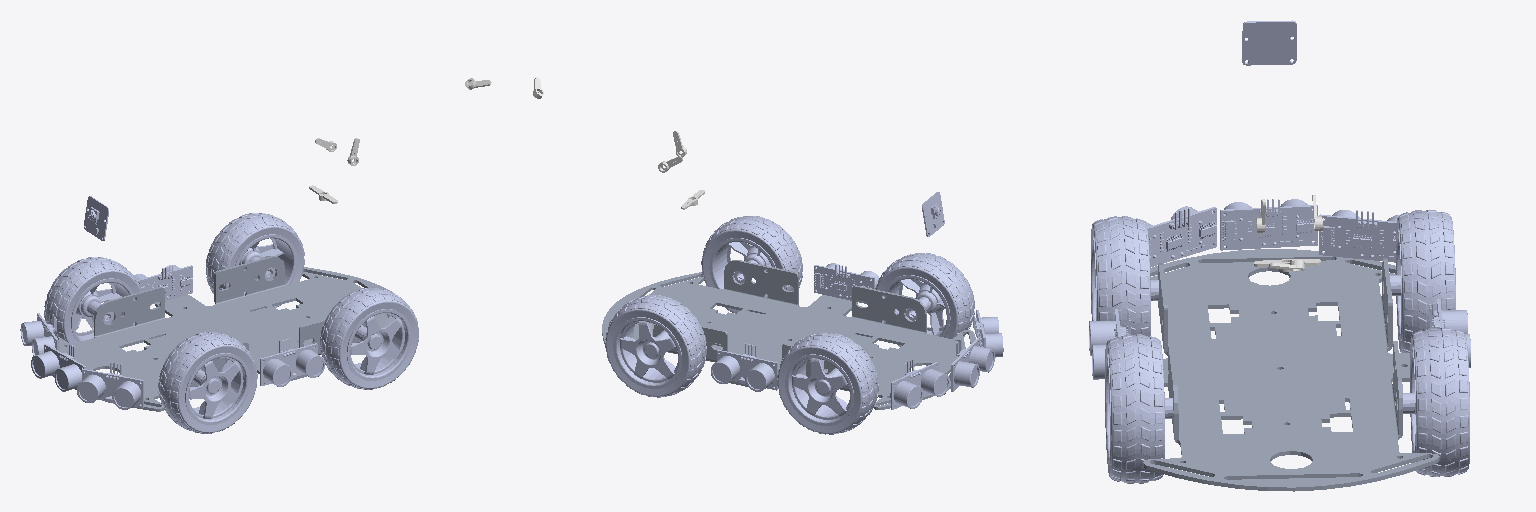
The robot description file, URDF, robot "assembly_of_robot":
<?xml version="1.0" encoding="utf-8"?>
<!-- This URDF was automatically created by SolidWorks to URDF Exporter! Originally created by Stephen Brawner (brawner@gmail.com) 
     Commit Version: 1.6.0-4-g7f85cfe  Build Version: 1.6.7995.38578
     For more information, please see http://wiki.ros.org/sw_urdf_exporter -->
<robot
  name="assembly_of_robot">
  <link
    name="base_link">
    <inertial>
      <origin
        xyz="-0.00370560542088127 -0.00123891547063168 -0.0326447076903412"
        rpy="0 0 0" />
      <mass
        value="0.0585904996282878" />
      <inertia
        ixx="8.00882758728889E-05"
        ixy="-9.08460677919354E-06"
        ixz="-4.47145682288692E-13"
        iyy="0.000258854069540987"
        iyz="-1.24068479421353E-12"
        izz="0.000335783016348923" />
    </inertial>
    <visual>
      <origin
        xyz="0 0 0"
        rpy="0 0 0" />
      <geometry>
        <mesh
          filename="package://assembly_of_robot/meshes/base_link.STL" />
      </geometry>
      <material
        name="">
        <color
          rgba="0.666666666666667 0.698039215686274 0.768627450980392 1" />
      </material>
    </visual>
    <collision>
      <origin
        xyz="0 0 0"
        rpy="0 0 0" />
      <geometry>
        <mesh
          filename="package://assembly_of_robot/meshes/base_link.STL" />
      </geometry>
    </collision>
  </link>
  <link
    name="wheel_fl_link">
    <inertial>
      <origin
        xyz="-0.000105669853970536 -0.00174681357516555 0.0101270123724146"
        rpy="0 0 0" />
      <mass
        value="0.166945648341111" />
      <inertia
        ixx="6.72961952966562E-05"
        ixy="8.75460776044797E-10"
        ixz="3.1755781149978E-12"
        iyy="6.72928970285414E-05"
        iyz="1.03915652666965E-12"
        izz="0.000113206411676655" />
    </inertial>
    <visual>
      <origin
        xyz="0 0 0"
        rpy="0 0 0" />
      <geometry>
        <mesh
          filename="package://assembly_of_robot/meshes/wheel_fl_link.STL" />
      </geometry>
      <material
        name="">
        <color
          rgba="0.792156862745098 0.819607843137255 0.933333333333333 1" />
      </material>
    </visual>
    <collision>
      <origin
        xyz="0 0 0"
        rpy="0 0 0" />
      <geometry>
        <mesh
          filename="package://assembly_of_robot/meshes/wheel_fl_link.STL" />
      </geometry>
    </collision>
  </link>
  <joint
    name="wheel_fl_joint"
    type="fixed">
    <origin
      xyz="-0.064799 -0.06515 -0.020884"
      rpy="1.5708 -0.060409 0.050643" />
    <parent
      link="base_link" />
    <child
      link="wheel_fl_link" />
    <axis
      xyz="0 0 0" />
  </joint>
  <link
    name="wheel_fr_link">
    <inertial>
      <origin
        xyz="-0.000105670029036942 0.00174681288738787 0.010127012388173"
        rpy="0 0 0" />
      <mass
        value="0.166945648268322" />
      <inertia
        ixx="6.72959886592619E-05"
        ixy="-1.18547893310603E-09"
        ixz="3.06215474412157E-12"
        iyy="6.72931038073597E-05"
        iyz="-9.2618000400134E-13"
        izz="0.000113206411590483" />
    </inertial>
    <visual>
      <origin
        xyz="0 0 0"
        rpy="0 0 0" />
      <geometry>
        <mesh
          filename="package://assembly_of_robot/meshes/wheel_fr_link.STL" />
      </geometry>
      <material
        name="">
        <color
          rgba="0.792156862745098 0.819607843137255 0.933333333333333 1" />
      </material>
    </visual>
    <collision>
      <origin
        xyz="0 0 0"
        rpy="0 0 0" />
      <geometry>
        <mesh
          filename="package://assembly_of_robot/meshes/wheel_fr_link.STL" />
      </geometry>
    </collision>
  </link>
  <joint
    name="wheel_fr_joint"
    type="fixed">
    <origin
      xyz="-0.070948 0.056167 -0.020884"
      rpy="-1.5708 -0.060409 0.050643" />
    <parent
      link="base_link" />
    <child
      link="wheel_fr_link" />
    <axis
      xyz="0 0 0" />
  </joint>
  <link
    name="wheel_bl_link">
    <inertial>
      <origin
        xyz="-0.000105669853960988 -0.0017468135751744 0.0101270123724197"
        rpy="0 0 0" />
      <mass
        value="0.166945648341348" />
      <inertia
        ixx="6.72961952967705E-05"
        ixy="8.75460791537877E-10"
        ixz="3.17557931693756E-12"
        iyy="6.72928970285945E-05"
        iyz="1.03916985727418E-12"
        izz="0.000113206411676816" />
    </inertial>
    <visual>
      <origin
        xyz="0 0 0"
        rpy="0 0 0" />
      <geometry>
        <mesh
          filename="package://assembly_of_robot/meshes/wheel_bl_link.STL" />
      </geometry>
      <material
        name="">
        <color
          rgba="0.792156862745098 0.819607843137255 0.933333333333333 1" />
      </material>
    </visual>
    <collision>
      <origin
        xyz="0 0 0"
        rpy="0 0 0" />
      <geometry>
        <mesh
          filename="package://assembly_of_robot/meshes/wheel_bl_link.STL" />
      </geometry>
    </collision>
  </link>
  <joint
    name="wheel_bl_joint"
    type="fixed">
    <origin
      xyz="0.063537 -0.058645 -0.020884"
      rpy="1.5708 -0.060409 0.050643" />
    <parent
      link="base_link" />
    <child
      link="wheel_bl_link" />
    <axis
      xyz="0 0 0" />
  </joint>
  <link
    name="wheel_br_link">
    <inertial>
      <origin
        xyz="-0.000105670029167615 0.00174681288747511 0.010127012388229"
        rpy="0 0 0" />
      <mass
        value="0.166945648269942" />
      <inertia
        ixx="6.72959886593697E-05"
        ixy="-1.18547871982134E-09"
        ixz="3.06227103560424E-12"
        iyy="6.72931038077175E-05"
        iyz="-9.26253933036976E-13"
        izz="0.000113206411590851" />
    </inertial>
    <visual>
      <origin
        xyz="0 0 0"
        rpy="0 0 0" />
      <geometry>
        <mesh
          filename="package://assembly_of_robot/meshes/wheel_br_link.STL" />
      </geometry>
      <material
        name="">
        <color
          rgba="0.792156862745098 0.819607843137255 0.933333333333333 1" />
      </material>
    </visual>
    <collision>
      <origin
        xyz="0 0 0"
        rpy="0 0 0" />
      <geometry>
        <mesh
          filename="package://assembly_of_robot/meshes/wheel_br_link.STL" />
      </geometry>
    </collision>
  </link>
  <joint
    name="wheel_br_joint"
    type="fixed">
    <origin
      xyz="0.057387 0.062672 -0.020884"
      rpy="-1.5708 -0.060409 0.050643" />
    <parent
      link="base_link" />
    <child
      link="wheel_br_link" />
    <axis
      xyz="0 0 0" />
  </joint>
  <link
    name="arm_link_1">
    <inertial>
      <origin
        xyz="-0.124122626261111 0.00674578860620575 -0.0308255459423702"
        rpy="0 0 0" />
      <mass
        value="8.1278852649819E-05" />
      <inertia
        ixx="4.93089984265765E-09"
        ixy="-3.70030615453607E-10"
        ixz="-6.73001887244955E-11"
        iyy="2.95256868033253E-10"
        iyz="5.33829838018978E-12"
        izz="4.99315942171251E-09" />
    </inertial>
    <visual>
      <origin
        xyz="0 0 0"
        rpy="0 0 0" />
      <geometry>
        <mesh
          filename="package://assembly_of_robot/meshes/arm_link_1.STL" />
      </geometry>
      <material
        name="">
        <color
          rgba="0.917647058823529 0.917647058823529 0.917647058823529 1" />
      </material>
    </visual>
    <collision>
      <origin
        xyz="0 0 0"
        rpy="0 0 0" />
      <geometry>
        <mesh
          filename="package://assembly_of_robot/meshes/arm_link_1.STL" />
      </geometry>
    </collision>
  </link>
  <joint
    name="arm_joint_1"
    type="fixed">
    <origin
      xyz="0.18587 0.0065057 0.10591"
      rpy="-3.0796 -0.66341 -0.035278" />
    <parent
      link="base_link" />
    <child
      link="arm_link_1" />
    <axis
      xyz="0 0 0" />
  </joint>
  <link
    name="arm_link_2">
    <inertial>
      <origin
        xyz="0.00648574509338751 -0.0035676648492927 0.0146673556846963"
        rpy="0 0 0" />
      <mass
        value="5.57519132003526E-05" />
      <inertia
        ixx="1.44807551587359E-09"
        ixy="4.27495052985691E-10"
        ixz="-4.51952909781509E-11"
        iyy="3.63616413413215E-10"
        iyz="1.30323710094228E-10"
        izz="1.70581897775778E-09" />
    </inertial>
    <visual>
      <origin
        xyz="0 0 0"
        rpy="0 0 0" />
      <geometry>
        <mesh
          filename="package://assembly_of_robot/meshes/arm_link_2.STL" />
      </geometry>
      <material
        name="">
        <color
          rgba="0.917647058823529 0.917647058823529 0.917647058823529 1" />
      </material>
    </visual>
    <collision>
      <origin
        xyz="0 0 0"
        rpy="0 0 0" />
      <geometry>
        <mesh
          filename="package://assembly_of_robot/meshes/arm_link_2.STL" />
      </geometry>
    </collision>
  </link>
  <joint
    name="arm_joint_2"
    type="fixed">
    <origin
      xyz="-0.0977341582856277 0.032098573245808 -0.0458965624183291"
      rpy="1.57079632679489 -0.605405747453626 -0.0791549736736961" />
    <parent
      link="arm_link_1" />
    <child
      link="arm_link_2" />
    <axis
      xyz="0 0 0" />
  </joint>
  <link
    name="arm_link_3">
    <inertial>
      <origin
        xyz="0.0018500879530019 0.00214391271618598 0.0146673556846982"
        rpy="0 0 0" />
      <mass
        value="5.57519132003528E-05" />
      <inertia
        ixx="7.09211449765935E-10"
        ixy="6.6189105909767E-10"
        ixz="1.10556176440161E-10"
        iyy="1.10248047952088E-09"
        iyz="-8.24876693224881E-11"
        izz="1.70581897775779E-09" />
    </inertial>
    <visual>
      <origin
        xyz="0 0 0"
        rpy="0 0 0" />
      <geometry>
        <mesh
          filename="package://assembly_of_robot/meshes/arm_link_3.STL" />
      </geometry>
      <material
        name="">
        <color
          rgba="0.917647058823529 0.917647058823529 0.917647058823529 1" />
      </material>
    </visual>
    <collision>
      <origin
        xyz="0 0 0"
        rpy="0 0 0" />
      <geometry>
        <mesh
          filename="package://assembly_of_robot/meshes/arm_link_3.STL" />
      </geometry>
    </collision>
  </link>
  <joint
    name="arm_joint_3"
    type="fixed">
    <origin
      xyz="0 0 0.05472"
      rpy="-3.14159265358979 0 0" />
    <parent
      link="arm_link_2" />
    <child
      link="arm_link_3" />
    <axis
      xyz="0 0 0" />
  </joint>
  <link
    name="gripper_link">
    <inertial>
      <origin
        xyz="0.113318137458526 0.000812721670038208 0.0681968479941391"
        rpy="0 0 0" />
      <mass
        value="5.57519132003527E-05" />
      <inertia
        ixx="1.25390317776698E-09"
        ixy="6.01820102436692E-10"
        ixz="-2.41092409319661E-10"
        iyy="6.75526733669433E-10"
        iyz="2.75026382373374E-10"
        izz="1.58808099560817E-09" />
    </inertial>
    <visual>
      <origin
        xyz="0 0 0"
        rpy="0 0 0" />
      <geometry>
        <mesh
          filename="package://assembly_of_robot/meshes/gripper_link.STL" />
      </geometry>
      <material
        name="">
        <color
          rgba="0.917647058823529 0.917647058823529 0.917647058823529 1" />
      </material>
    </visual>
    <collision>
      <origin
        xyz="0 0 0"
        rpy="0 0 0" />
      <geometry>
        <mesh
          filename="package://assembly_of_robot/meshes/gripper_link.STL" />
      </geometry>
    </collision>
  </link>
  <joint
    name="gripper_joint"
    type="fixed">
    <origin
      xyz="-0.00711645531853933 -0.0406041889920145 0.0273600000000001"
      rpy="-1.5707963267949 -0.0652497686603052 -0.0604604536911187" />
    <parent
      link="arm_link_3" />
    <child
      link="gripper_link" />
    <axis
      xyz="0 0 0" />
  </joint>
  <link
    name="camera_link">
    <inertial>
      <origin
        xyz="0 0 0"
        rpy="0 0 0" />
      <mass
        value="0.01" />
      <inertia
        ixx="1e-06"
        ixy="0"
        ixz="0"
        iyy="1e-06"
        iyz="0"
        izz="1e-06" />
    </inertial>
    <visual>
      <origin
        xyz="0 0 0"
        rpy="0 0 0" />
      <geometry>
        <mesh
          filename="package://assembly_of_robot/meshes/camera_link.STL" />
      </geometry>
      <material
        name="">
        <color
          rgba="0.792156862745098 0.819607843137255 0.933333333333333 1" />
      </material>
    </visual>
    <collision>
      <origin
        xyz="0 0 0"
        rpy="0 0 0" />
      <geometry>
        <mesh
          filename="package://assembly_of_robot/meshes/camera_link.STL" />
      </geometry>
    </collision>
  </link>
  <joint
    name="camera_joint"
    type="fixed">
    <origin
      xyz="-0.10746 -0.021291 0.093296"
      rpy="0.89986 -1.2952 -0.86787" />
    <parent
      link="base_link" />
    <child
      link="camera_link" />
    <axis
      xyz="0 0 0" />
  </joint>
  <link
    name="ultrasonic_front_left_link">
    <inertial>
      <origin
        xyz="-0.00410496565863083 0.00342186137231378 0.000787748429459056"
        rpy="0 0 0" />
      <mass
        value="0.00627540556306314" />
      <inertia
        ixx="1.8091310188245E-07"
        ixy="2.14052718518324E-08"
        ixz="5.26016256356208E-10"
        iyy="3.88111656388318E-07"
        iyz="1.9027739006771E-09"
        izz="4.67479665984999E-07" />
    </inertial>
    <visual>
      <origin
        xyz="0 0 0"
        rpy="0 0 0" />
      <geometry>
        <mesh
          filename="package://assembly_of_robot/meshes/ultrasonic_front_left_link.STL" />
      </geometry>
      <material
        name="">
        <color
          rgba="0.792156862745098 0.819607843137255 0.933333333333333 1" />
      </material>
    </visual>
    <collision>
      <origin
        xyz="0 0 0"
        rpy="0 0 0" />
      <geometry>
        <mesh
          filename="package://assembly_of_robot/meshes/ultrasonic_front_left_link.STL" />
      </geometry>
    </collision>
  </link>
  <joint
    name="ultrasonic_front_left_joint"
    type="fixed">
    <origin
      xyz="-0.12324 -0.05497 -0.026486"
      rpy="1.5708 -0.10222 -0.94112" />
    <parent
      link="base_link" />
    <child
      link="ultrasonic_front_left_link" />
    <axis
      xyz="0 0 0" />
  </joint>
  <link
    name="ultrasonic_front_center_link">
    <inertial>
      <origin
        xyz="0.00324100069095823 -0.00261611782199495 0.00491527271117598"
        rpy="0 0 0" />
      <mass
        value="0.00627539872556594" />
      <inertia
        ixx="2.20603425712463E-07"
        ixy="8.43011223352966E-08"
        ixz="1.16130642240841E-09"
        iyy="3.48421078729013E-07"
        iyz="1.59644854374685E-09"
        izz="4.67479412197649E-07" />
    </inertial>
    <visual>
      <origin
        xyz="0 0 0"
        rpy="0 0 0" />
      <geometry>
        <mesh
          filename="package://assembly_of_robot/meshes/ultrasonic_front_center_link.STL" />
      </geometry>
      <material
        name="">
        <color
          rgba="0.792156862745098 0.819607843137255 0.933333333333333 1" />
      </material>
    </visual>
    <collision>
      <origin
        xyz="0 0 0"
        rpy="0 0 0" />
      <geometry>
        <mesh
          filename="package://assembly_of_robot/meshes/ultrasonic_front_center_link.STL" />
      </geometry>
    </collision>
  </link>
  <joint
    name="ultrasonic_front_center_joint"
    type="fixed">
    <origin
      xyz="-0.13537 -0.0024024 -0.022602"
      rpy="1.5708 -0.46141 -1.449" />
    <parent
      link="base_link" />
    <child
      link="ultrasonic_front_center_link" />
    <axis
      xyz="0 0 0" />
  </joint>
  <link
    name="ultrasonic_front_right_link">
    <inertial>
      <origin
        xyz="-0.00261931645458721 0.00964536949786512 0.00386934100105762"
        rpy="0 0 0" />
      <mass
        value="0.00627540438161329" />
      <inertia
        ixx="1.92830209770845E-07"
        ixy="-5.2776737236851E-08"
        ixz="1.83969514837859E-10"
        iyy="3.76194498481619E-07"
        iyz="-1.9655532748961E-09"
        izz="4.67479614662039E-07" />
    </inertial>
    <visual>
      <origin
        xyz="0 0 0"
        rpy="0 0 0" />
      <geometry>
        <mesh
          filename="package://assembly_of_robot/meshes/ultrasonic_front_right_link.STL" />
      </geometry>
      <material
        name="">
        <color
          rgba="0.792156862745098 0.819607843137255 0.933333333333333 1" />
      </material>
    </visual>
    <collision>
      <origin
        xyz="0 0 0"
        rpy="0 0 0" />
      <geometry>
        <mesh
          filename="package://assembly_of_robot/meshes/ultrasonic_front_right_link.STL" />
      </geometry>
    </collision>
  </link>
  <joint
    name="ultrasonic_front_right_joint"
    type="fixed">
    <origin
      xyz="-0.1231 0.038886 -0.013507"
      rpy="-1.5708 -0.26082 1.3425" />
    <parent
      link="base_link" />
    <child
      link="ultrasonic_front_right_link" />
    <axis
      xyz="0 0 0" />
  </joint>
  <link
    name="ultrasonic_side_left_link">
    <inertial>
      <origin
        xyz="-0.00056000068313411 -0.00997900627428127 0.00386934838768141"
        rpy="0 0 0" />
      <mass
        value="0.00627539560047742" />
      <inertia
        ixx="1.79486832347677E-07"
        ixy="1.26777716147527E-08"
        ixz="4.46024912825487E-10"
        iyy="3.89537406737075E-07"
        iyz="1.92309191372384E-09"
        izz="4.67479148446961E-07" />
    </inertial>
    <visual>
      <origin
        xyz="0 0 0"
        rpy="0 0 0" />
      <geometry>
        <mesh
          filename="package://assembly_of_robot/meshes/ultrasonic_side_left_link.STL" />
      </geometry>
      <material
        name="">
        <color
          rgba="0.792156862745098 0.819607843137255 0.933333333333333 1" />
      </material>
    </visual>
    <collision>
      <origin
        xyz="0 0 0"
        rpy="0 0 0" />
      <geometry>
        <mesh
          filename="package://assembly_of_robot/meshes/ultrasonic_side_left_link.STL" />
      </geometry>
    </collision>
  </link>
  <joint
    name="ultrasonic_side_left_joint"
    type="fixed">
    <origin
      xyz="-0.0023558 -0.076267 -0.013507"
      rpy="1.5708 -0.060409 0.050643" />
    <parent
      link="base_link" />
    <child
      link="ultrasonic_side_left_link" />
    <axis
      xyz="0 0 0" />
  </joint>
  <link
    name="ultrasonic_side_right_link">
    <inertial>
      <origin
        xyz="-0.000646800388318991 0.00997374798829989 0.00386934210090545"
        rpy="0 0 0" />
      <mass
        value="0.00627540348823194" />
      <inertia
        ixx="1.79504727030845E-07"
        ixy="-1.2822310060726E-08"
        ixz="-2.10991805713478E-10"
        iyy="3.89519920865487E-07"
        iyz="-1.96282356020578E-09"
        izz="4.67479549215867E-07" />
    </inertial>
    <visual>
      <origin
        xyz="0 0 0"
        rpy="0 0 0" />
      <geometry>
        <mesh
          filename="package://assembly_of_robot/meshes/ultrasonic_side_right_link.STL" />
      </geometry>
      <material
        name="">
        <color
          rgba="0.792156862745098 0.819607843137255 0.933333333333333 1" />
      </material>
    </visual>
    <collision>
      <origin
        xyz="0 0 0"
        rpy="0 0 0" />
      <geometry>
        <mesh
          filename="package://assembly_of_robot/meshes/ultrasonic_side_right_link.STL" />
      </geometry>
    </collision>
  </link>
  <joint
    name="ultrasonic_side_right_joint"
    type="fixed">
    <origin
      xyz="-0.0133392824147547 0.0733690543744693 -0.0135066495726736"
      rpy="-1.5707963267949 -0.0604093676773043 0.0506430987959581" />
    <parent
      link="base_link" />
    <child
      link="ultrasonic_side_right_link" />
    <axis
      xyz="0 0 0" />
  </joint>
</robot>

--- Facts derived from the render (not from the file) ---
The picture shows the robot from 3 angles, left to right: view 1: azimuth 30°, elevation 25°; view 2: azimuth 150°, elevation 25°; view 3: azimuth 270°, elevation 25°; orthographic projection.
Robot: assembly_of_robot — 15 links, 14 joints (14 fixed); root link base_link; default pose: every joint at zero.
Links seen in each view (by area): view 1: base_link, wheel_bl_link, wheel_fl_link, wheel_fr_link, wheel_br_link, ultrasonic_front_left_link, ultrasonic_side_left_link, ultrasonic_front_center_link, ultrasonic_side_right_link, ultrasonic_front_right_link, camera_link; view 2: base_link, wheel_br_link, wheel_fr_link, wheel_fl_link, wheel_bl_link, ultrasonic_side_right_link, ultrasonic_front_right_link, ultrasonic_side_left_link, ultrasonic_front_center_link, ultrasonic_front_left_link, camera_link; view 3: base_link, wheel_bl_link, wheel_br_link, wheel_fr_link, wheel_fl_link, ultrasonic_front_center_link, ultrasonic_front_right_link, ultrasonic_front_left_link, camera_link, ultrasonic_side_left_link, ultrasonic_side_right_link.
Boxes of the visible links, x1=… form: base_link: x1=56, y1=256, x2=392, y2=411; wheel_bl_link: x1=320, y1=287, x2=418, y2=389; wheel_fl_link: x1=158, y1=332, x2=257, y2=433; wheel_fr_link: x1=44, y1=257, x2=140, y2=343; wheel_br_link: x1=206, y1=213, x2=304, y2=307; ultrasonic_front_left_link: x1=77, y1=362, x2=143, y2=409; ultrasonic_side_left_link: x1=260, y1=338, x2=324, y2=386; ultrasonic_front_center_link: x1=31, y1=343, x2=85, y2=391; ultrasonic_side_right_link: x1=134, y1=265, x2=192, y2=304; ultrasonic_front_right_link: x1=20, y1=313, x2=59, y2=355; camera_link: x1=84, y1=196, x2=108, y2=240; base_link: x1=602, y1=260, x2=975, y2=409; wheel_br_link: x1=605, y1=295, x2=706, y2=397; wheel_fr_link: x1=777, y1=332, x2=878, y2=434; wheel_fl_link: x1=875, y1=253, x2=974, y2=346; wheel_bl_link: x1=701, y1=216, x2=802, y2=313; ultrasonic_side_right_link: x1=711, y1=343, x2=777, y2=391; ultrasonic_front_right_link: x1=890, y1=360, x2=949, y2=409; ultrasonic_side_left_link: x1=814, y1=263, x2=878, y2=303; ultrasonic_front_center_link: x1=949, y1=338, x2=994, y2=391; ultrasonic_front_left_link: x1=973, y1=310, x2=1003, y2=357; camera_link: x1=922, y1=192, x2=944, y2=236; base_link: x1=1143, y1=249, x2=1439, y2=491; wheel_bl_link: x1=1105, y1=334, x2=1173, y2=483; wheel_br_link: x1=1403, y1=328, x2=1469, y2=476; wheel_fr_link: x1=1390, y1=210, x2=1455, y2=352; wheel_fl_link: x1=1091, y1=216, x2=1158, y2=336; ultrasonic_front_center_link: x1=1220, y1=199, x2=1317, y2=250; ultrasonic_front_right_link: x1=1319, y1=210, x2=1398, y2=262; ultrasonic_front_left_link: x1=1145, y1=206, x2=1216, y2=267; camera_link: x1=1242, y1=20, x2=1296, y2=65; ultrasonic_side_left_link: x1=1089, y1=309, x2=1130, y2=379; ultrasonic_side_right_link: x1=1429, y1=299, x2=1470, y2=367.
Bounding box of the posed robot: 0.3448 × 0.1757 × 0.169 m (x, y, z).
15 mesh visuals loaded from 15 distinct referenced files (15 binary STL).
